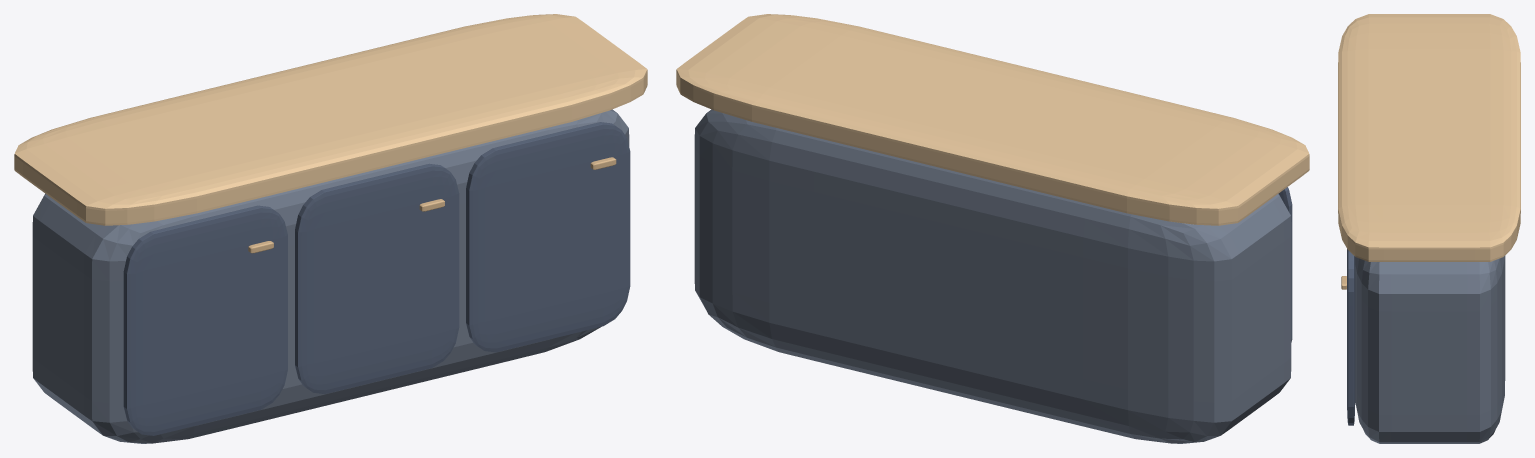
The model's file is counter.glb.
3 renders of one model, left to right at view 1: azimuth 30°, elevation 25°; view 2: azimuth 150°, elevation 25°; view 3: azimuth 270°, elevation 25°, orthographic. The views are drawn at different scales.
Visible parts, largest first — view 1: top, body, door0, door1, door2; view 2: body, top; view 3: top, body, door2.
Part boxes in pixels (x1,y1,x2,y2): top: [14, 14, 647, 225]; body: [32, 109, 629, 443]; door0: [123, 205, 287, 435]; door1: [295, 163, 459, 393]; door2: [466, 122, 630, 352]; body: [694, 109, 1291, 443]; top: [676, 14, 1309, 225]; top: [1338, 14, 1520, 261]; body: [1355, 255, 1505, 443]; door2: [1347, 249, 1355, 425].
Bounding box in the file's own units: 2.3 × 1.05 × 0.76.
